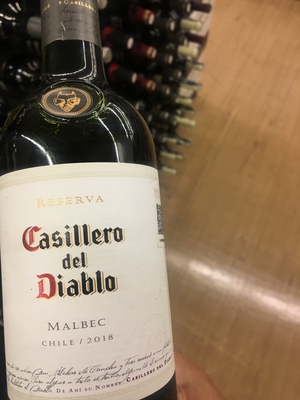casillero del diablo malbec: (1, 16, 186, 400)
